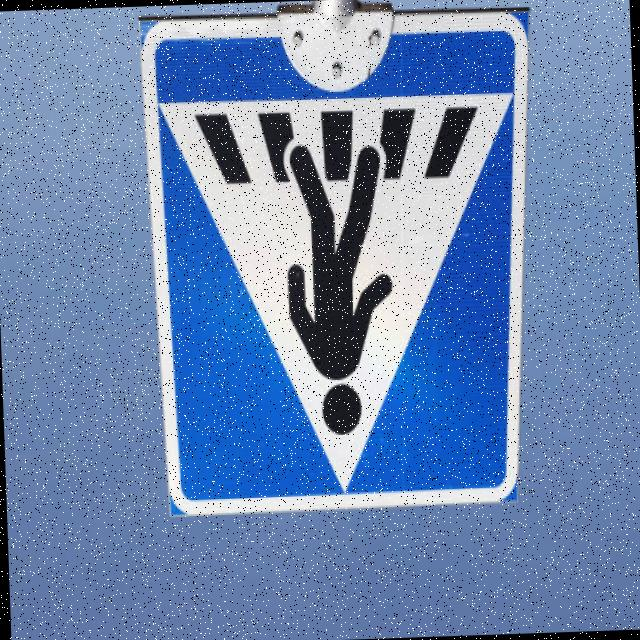crosswalk: (116, 0, 553, 531)
